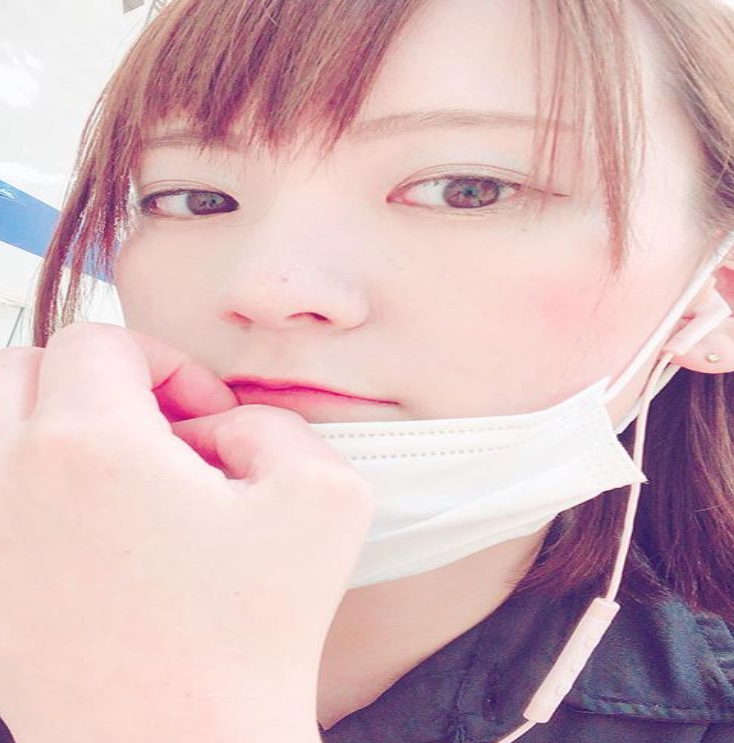mask_weared_incorrect: (105, 1, 733, 575)
